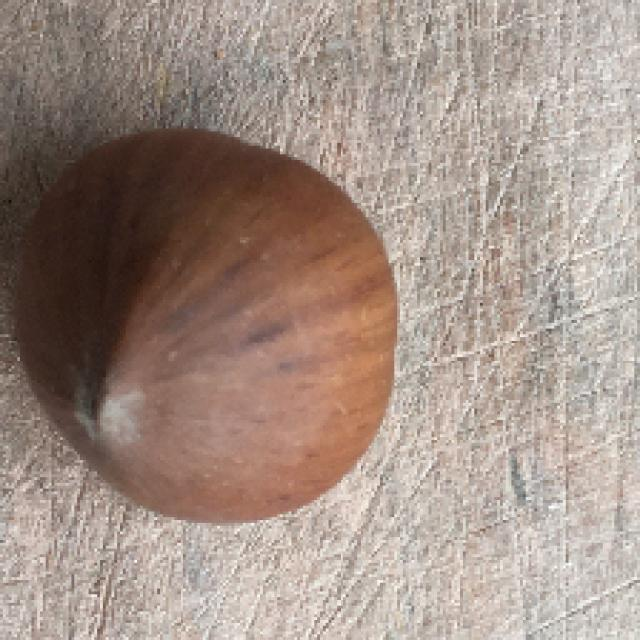qualityHazelnut: (2, 124, 407, 518)
